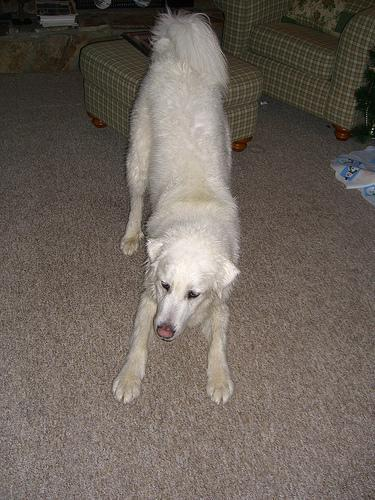Great_Pyrenees: (108, 2, 243, 405)
